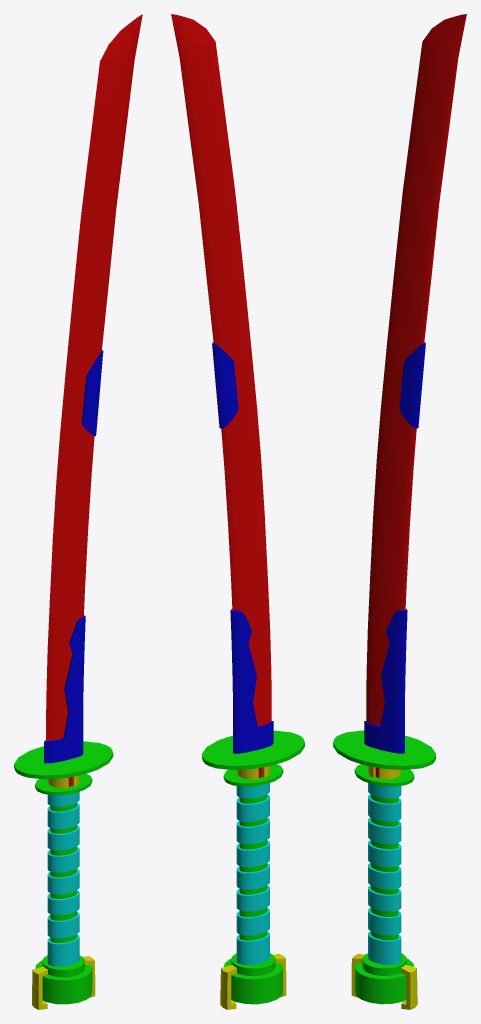
The model's file is Sword_mk2.fbx.
The picture shows the model from 3 angles, left to right: view 1: azimuth 30°, elevation 25°; view 2: azimuth 210°, elevation 25°; view 3: azimuth 330°, elevation 25°; orthographic projection. The views are drawn at different scales.
Visible parts, largest first — view 1: Sword; view 2: Sword; view 3: Sword.
Part boxes in pixels (box(x1,y1,x2,y2)): Sword: box(14, 14, 142, 1009); Sword: box(171, 14, 304, 1009); Sword: box(333, 14, 466, 1009).
Size of the model in its own units: 32.75 by 242 by 15.92.
